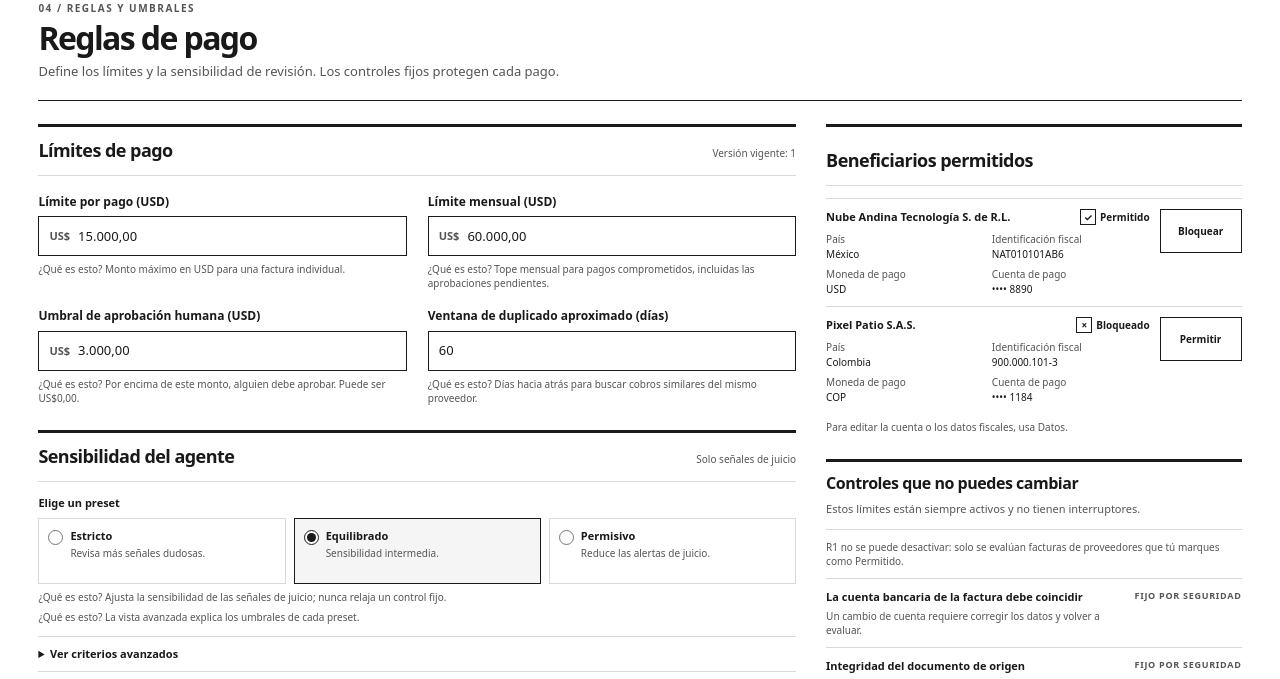
Reglas › saves exact integer cents and adopts the server version
The image size is (1280, 679).
Replace the text in the field labelled "Límite por pago (USD)" with "15.000,25" at (242, 236), box [78,217,406,255]
(page scrolled)
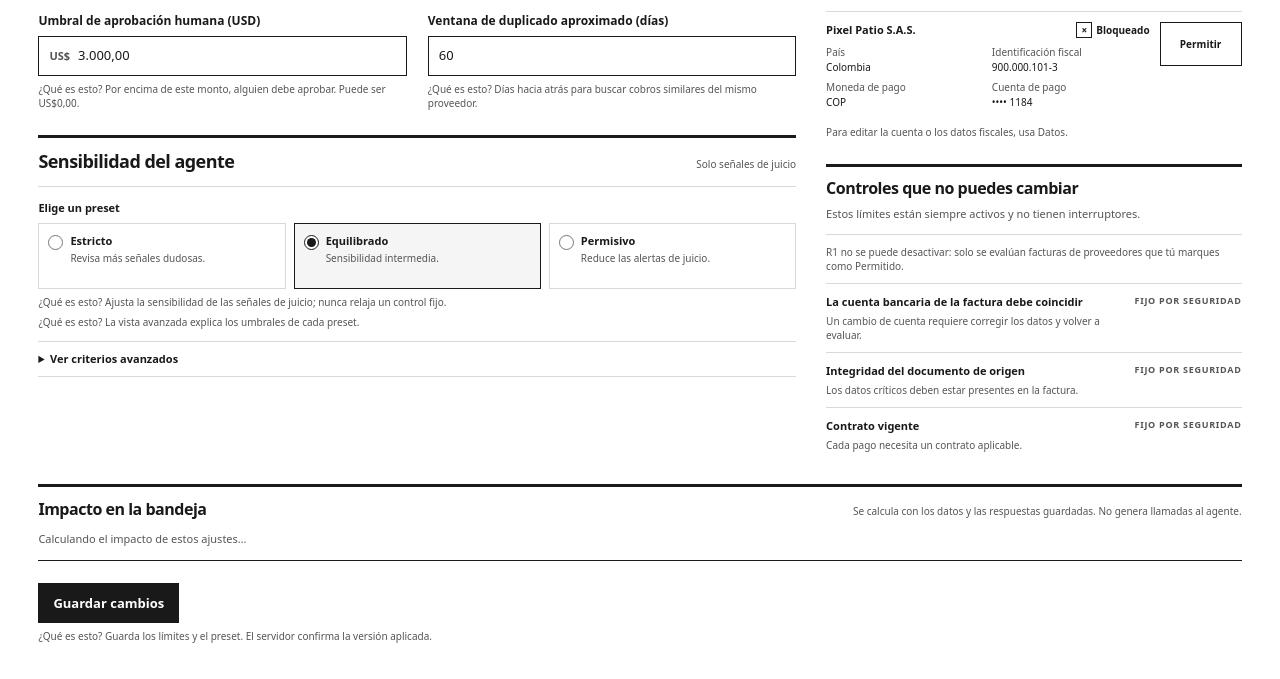
Click the button "Guardar cambios" at (109, 603), box [38,583,179,623]
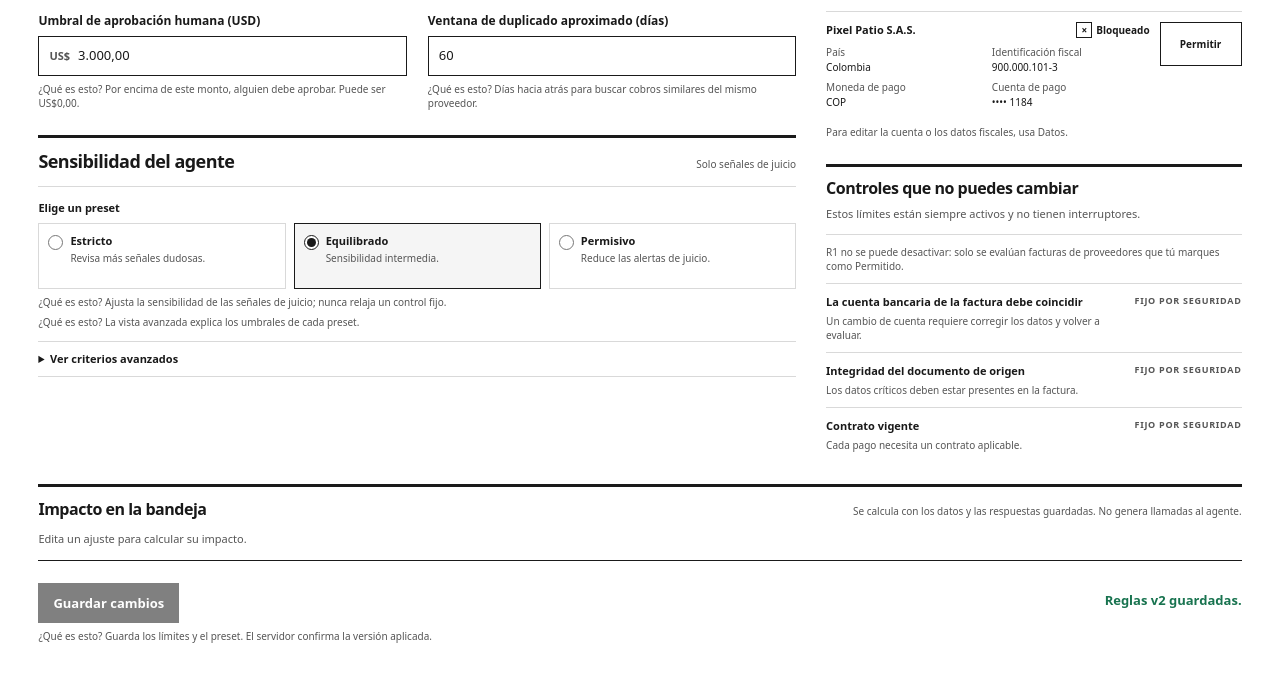
Result: the text "Reglas v2 guardadas." is shown at [1105,591,1242,610]
